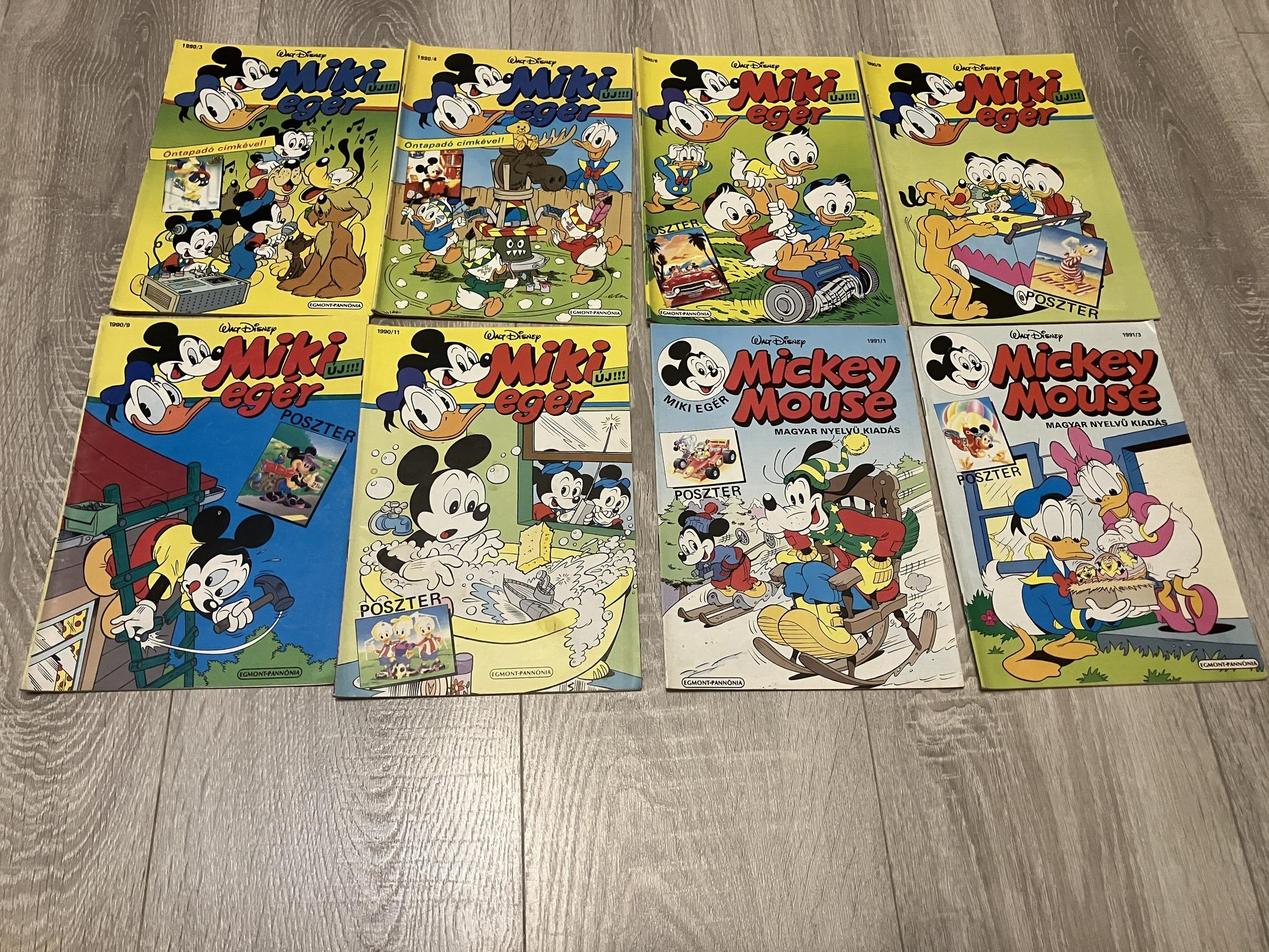comic: (906, 272, 1267, 735), (22, 306, 366, 700), (650, 316, 962, 696), (330, 322, 641, 697), (857, 7, 1159, 363), (111, 36, 403, 324), (376, 40, 645, 328), (636, 41, 897, 333)
